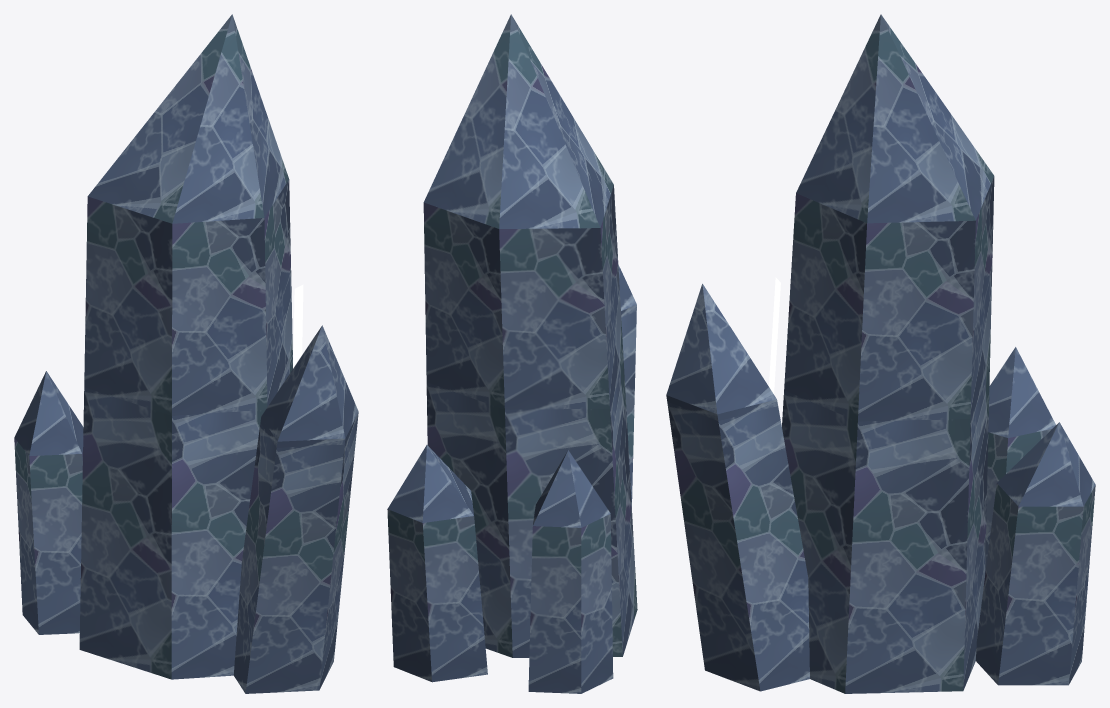
Rendered from Oracle_Crystal_Slab_1_LOD1.gltf.
3 views of the same model, side by side, from view 1: azimuth 30°, elevation 25°; view 2: azimuth 150°, elevation 25°; view 3: azimuth 270°, elevation 25° (orthographic). The views are drawn at different scales.
Visible parts, largest first — view 1: Oracle_Crystal_Slab_1_LOD1; view 2: Oracle_Crystal_Slab_1_LOD1; view 3: Oracle_Crystal_Slab_1_LOD1.
Part boxes in pixels (x1=…): Oracle_Crystal_Slab_1_LOD1: x1=14, y1=14, x2=358, y2=693; Oracle_Crystal_Slab_1_LOD1: x1=387, y1=14, x2=637, y2=693; Oracle_Crystal_Slab_1_LOD1: x1=666, y1=14, x2=1095, y2=693.
Bounding box in the file's own units: 10 × 28.98 × 17.24.
2 materials, 2 textured.
